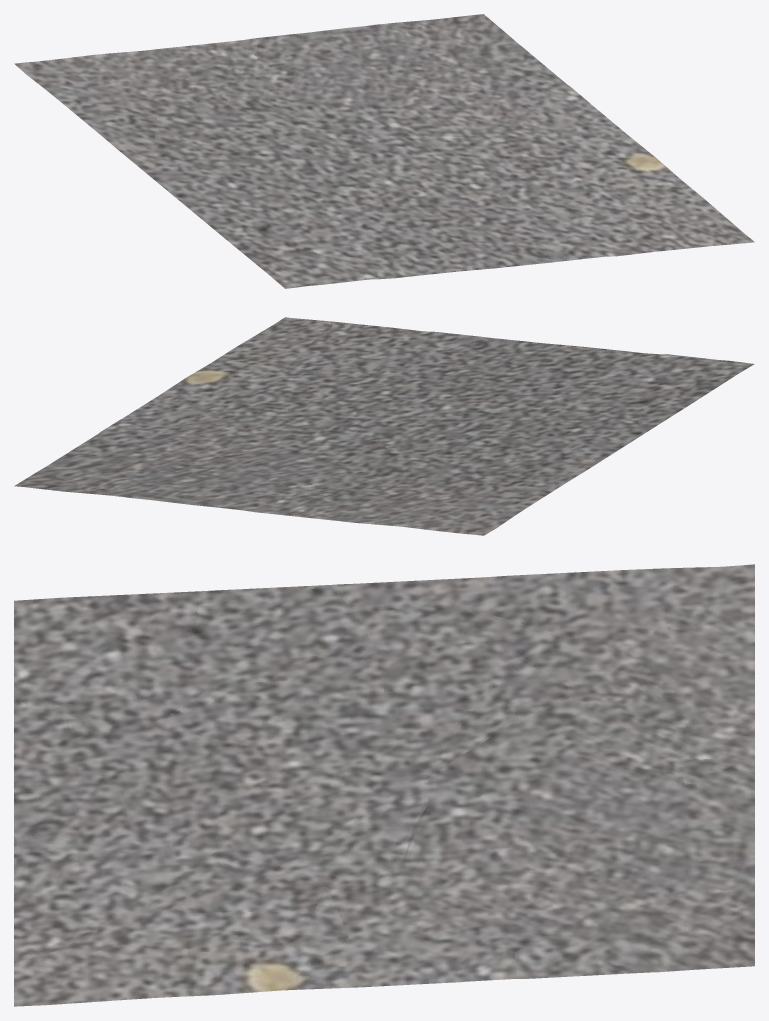
3 views of the same model, one above another, from view 1: azimuth 30°, elevation 25°; view 2: azimuth 150°, elevation 25°; view 3: azimuth 270°, elevation 25° (orthographic). The views are drawn at different scales.
Size of the model in its own units: 0.8374 by 0.161 by 0.8374.
Materials: 3 (3 with a texture image).
